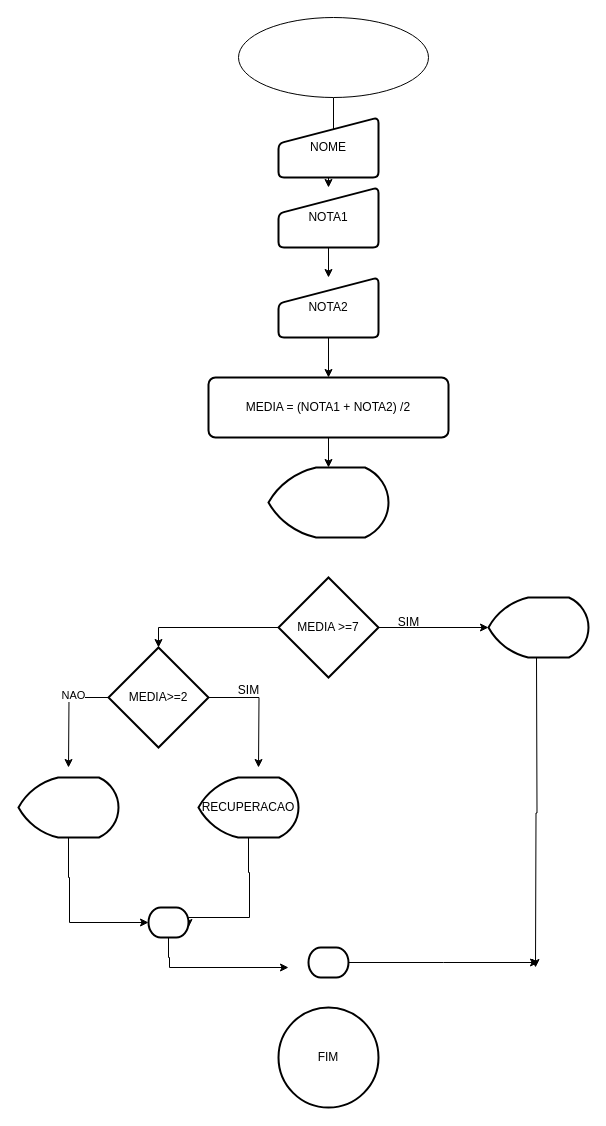
Some shapes in this 606 by 1126 pixel diagram are drawn without their labels. The box of each missing label's shape, as (x1, y1, x2, y2) in pixels:
APROVADO: (487, 596, 589, 658)
INICIO: (238, 16, 428, 98)
NOME NOTA1 NOTA2 MEDIA: (267, 466, 389, 538)
REPROVADO: (17, 776, 119, 838)
